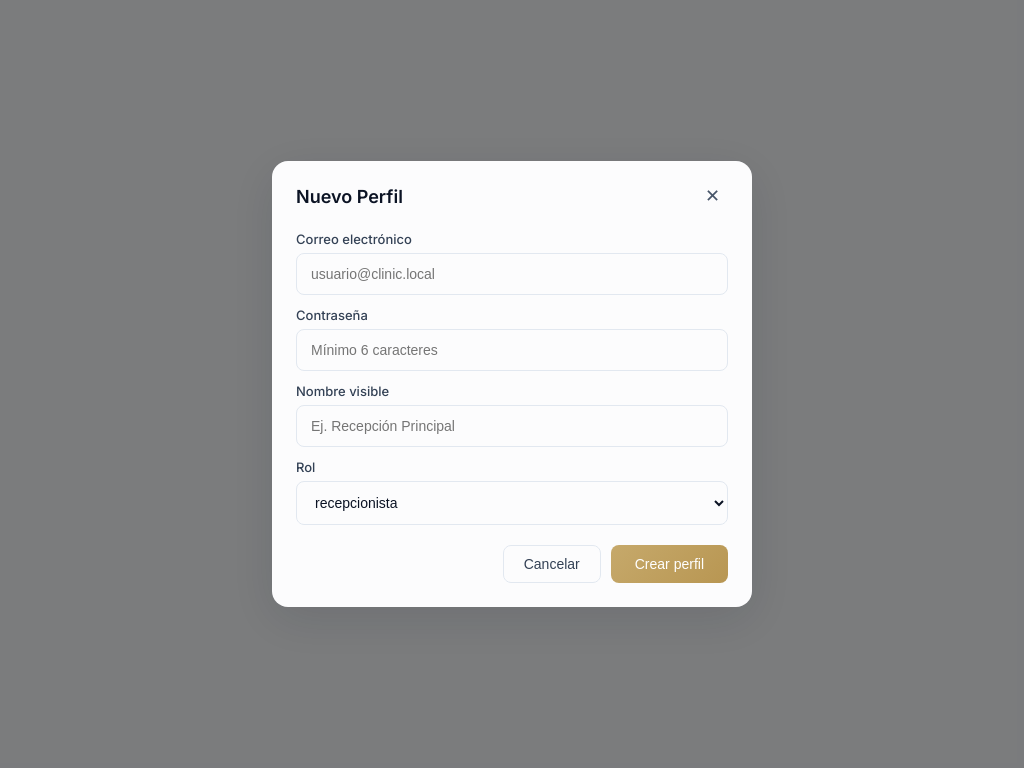
ProfileFormModal › shows specialty selector for doctor role (no doctor-id field)
Select "doctor" in the dropdown labelled "Rol". click: point(512, 503)
box: [296, 481, 728, 525]
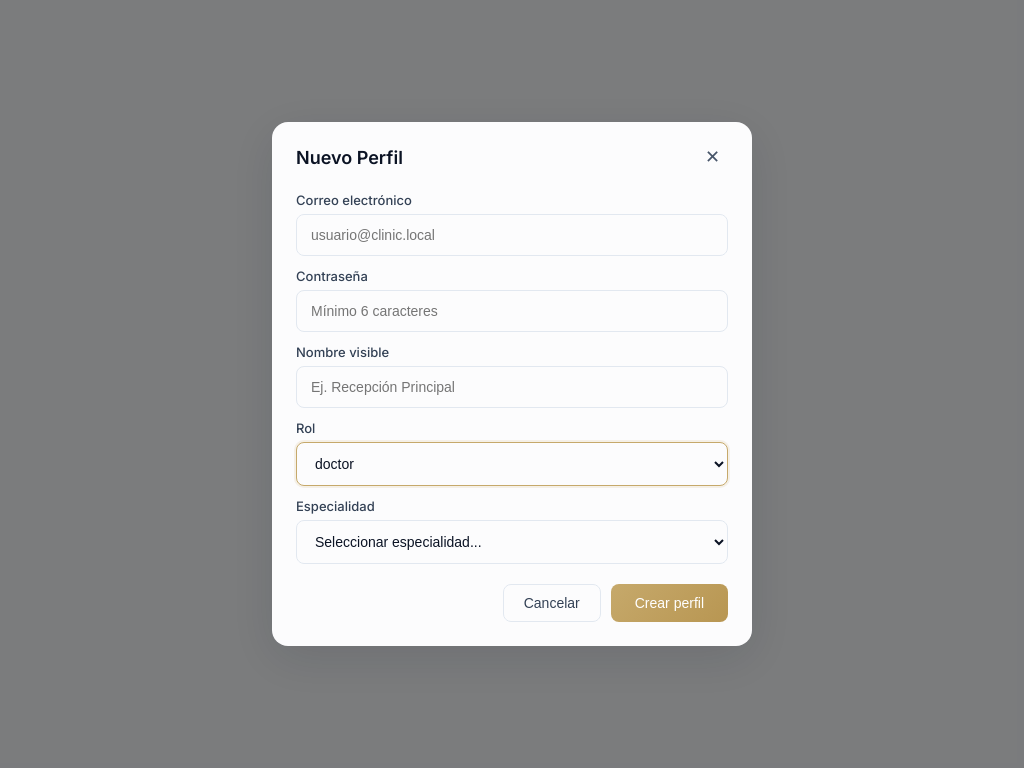
Now the dropdown with test id "specialty-select" is shown, box [296, 520, 728, 564]
